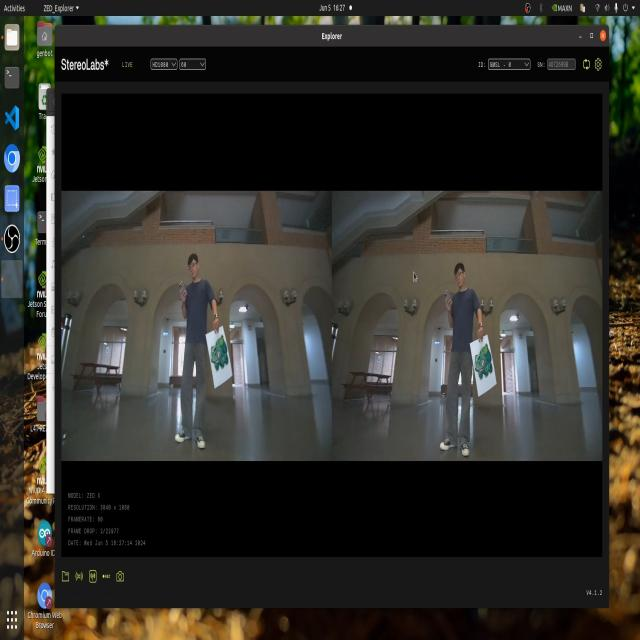green: (200, 325, 234, 379), (472, 347, 502, 390)
